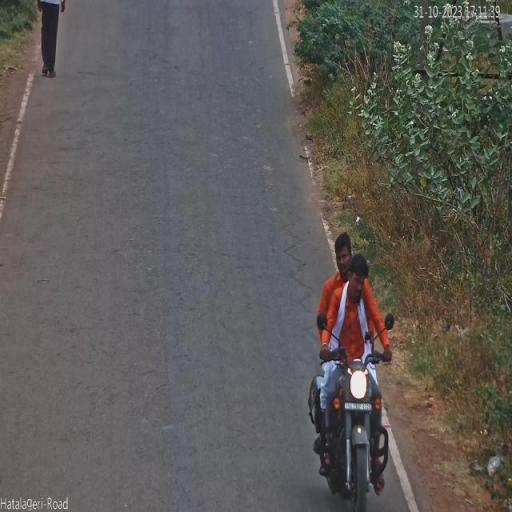using mobile: (358, 280, 366, 308)
